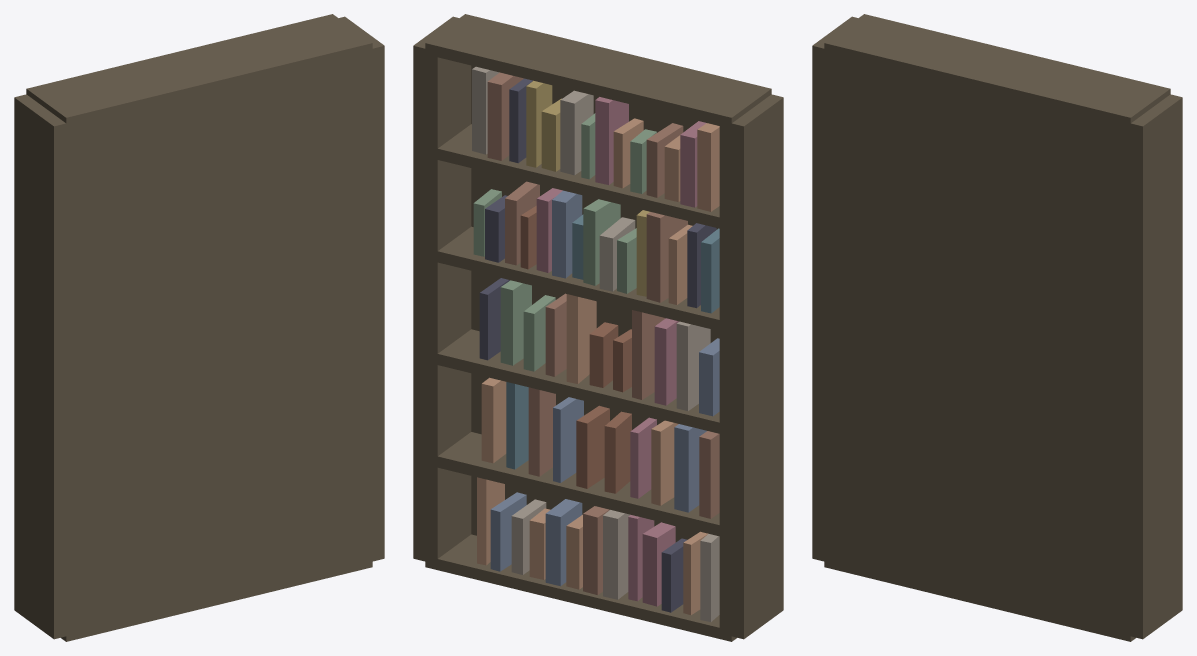
The picture shows the model from 3 angles, left to right: view 1: azimuth 30°, elevation 25°; view 2: azimuth 150°, elevation 25°; view 3: azimuth 330°, elevation 25°; orthographic projection.
Visible parts, largest first — view 1: Cube.002, Cube, Cube.008, Cube.001, Cube.003, Cube.004, Cube.005, Cube.006, Cube.007; view 2: Cube, Cube.001, Cube.008, Cube.002, Cube.004, Cube.005, Cube.003, Cube.007, Cube.006, Book.037, Book.029, Book.005 (+60 smaller); view 3: Cube.002, Cube.001, Cube.008, Cube, Cube.003, Cube.004, Cube.005, Cube.006, Cube.007.
Part boxes in pixels (x1,y1,x2,y2): Cube.002: [66, 48, 372, 627]; Cube: [14, 94, 78, 639]; Cube.008: [26, 14, 372, 127]; Cube.001: [339, 16, 384, 563]; Cube.003: [61, 556, 372, 641]; Cube.004: [78, 453, 372, 536]; Cube.005: [66, 351, 371, 433]; Cube.006: [68, 248, 372, 331]; Cube.007: [66, 147, 371, 228]; Cube: [719, 94, 783, 639]; Cube.001: [413, 16, 471, 564]; Cube.008: [425, 14, 771, 128]; Cube.002: [471, 65, 719, 542]; Cube.004: [425, 432, 719, 536]; Cube.005: [425, 329, 731, 434]; Cube.003: [425, 534, 736, 641]; Cube.007: [425, 124, 730, 230]; Cube.006: [425, 226, 731, 333]; Book.037: [646, 212, 687, 302]; Book.029: [566, 294, 596, 383]; Book.005: [603, 510, 630, 599]; Cube.002: [824, 49, 1130, 627]; Cube.001: [1118, 94, 1182, 639]; Cube.008: [824, 14, 1170, 128]; Cube: [812, 16, 857, 564]; Cube.003: [824, 556, 1135, 641]; Cube.004: [824, 454, 1118, 536]; Cube.005: [824, 351, 1130, 434]; Cube.006: [824, 249, 1130, 333]; Cube.007: [825, 146, 1129, 230].
Bounding box in the file's own units: 2.16 × 3.27 × 0.45.
